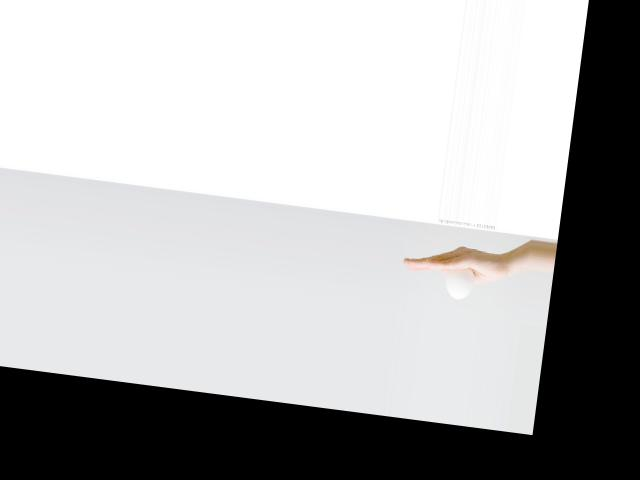egg: (444, 264, 474, 300)
